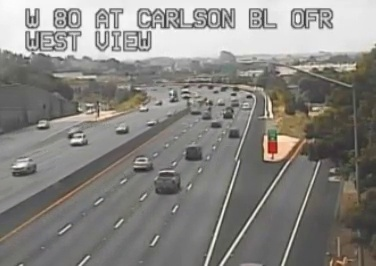car: (154, 171, 180, 191), (133, 157, 152, 169), (185, 146, 201, 160)
